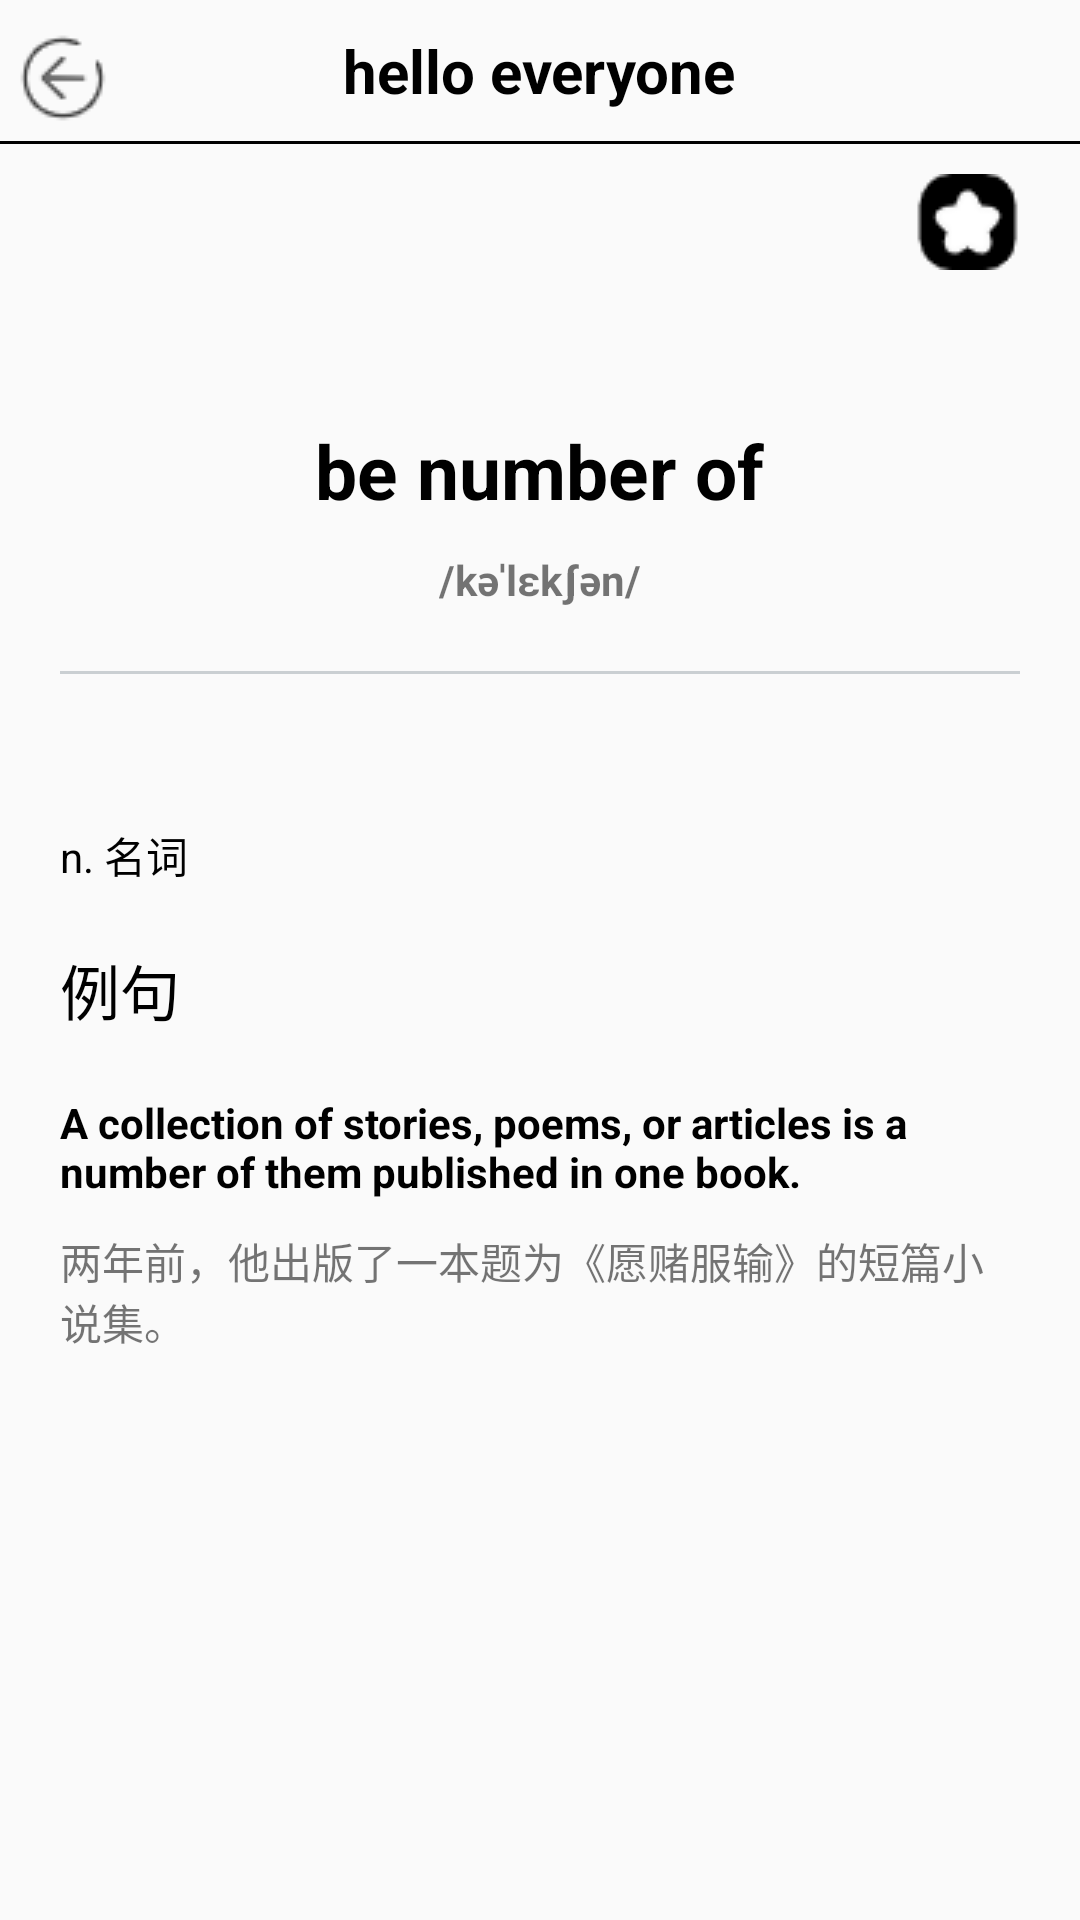

Screen size 1080x1920. Icon name, then its box in pixels as box(x1, y1, x2, y2):
back: box(21, 36, 105, 120)
